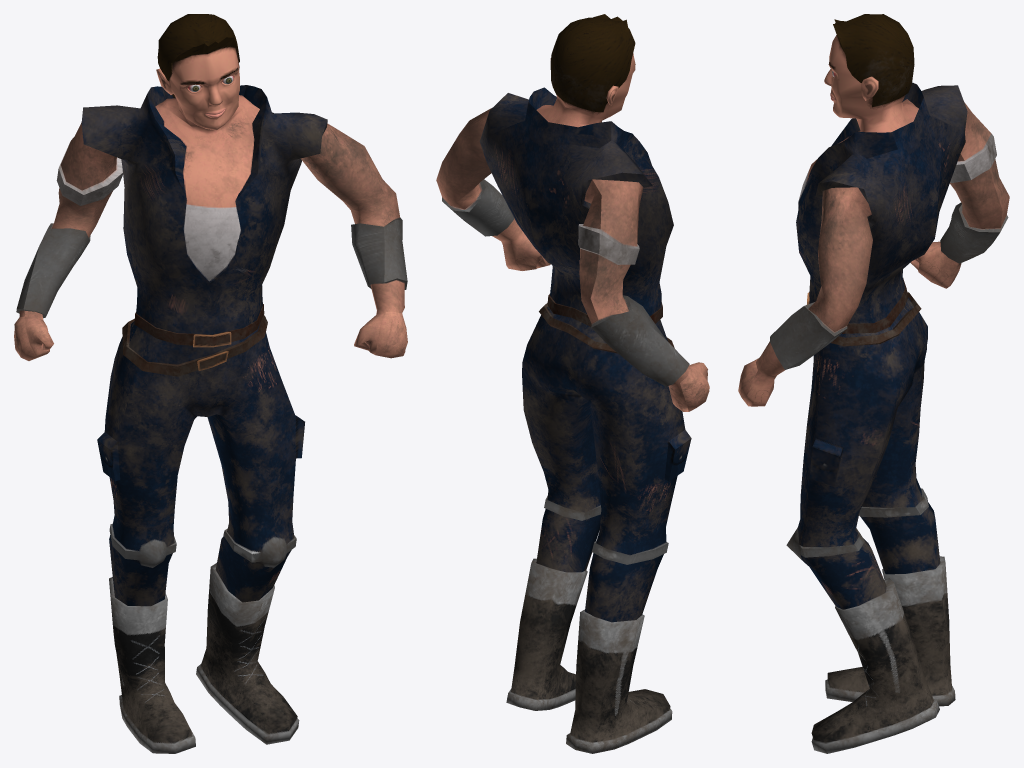
Rendered from Anim_ataque_f1_jugador.0010.obj.
3 renders of one model, left to right at view 1: azimuth 30°, elevation 25°; view 2: azimuth 150°, elevation 25°; view 3: azimuth 270°, elevation 25°, orthographic.
Visible parts, largest first — view 1: polySurface1; view 2: polySurface1; view 3: polySurface1.
Part boxes in pixels (bbox=[...]): polySurface1: bbox=[14, 14, 407, 753]; polySurface1: bbox=[436, 14, 709, 753]; polySurface1: bbox=[738, 14, 1009, 753].
Bounding box in the file's own units: 4.57 × 9.61 × 3.36.
